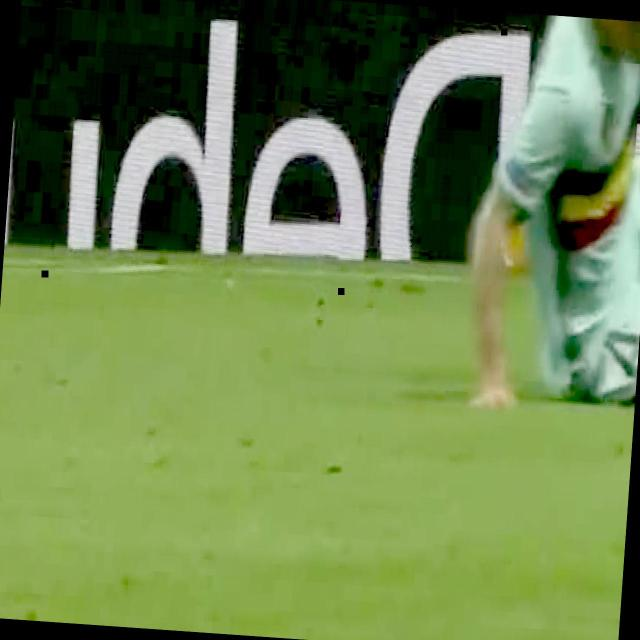player-white: (465, 11, 640, 431), (554, 17, 640, 331)
